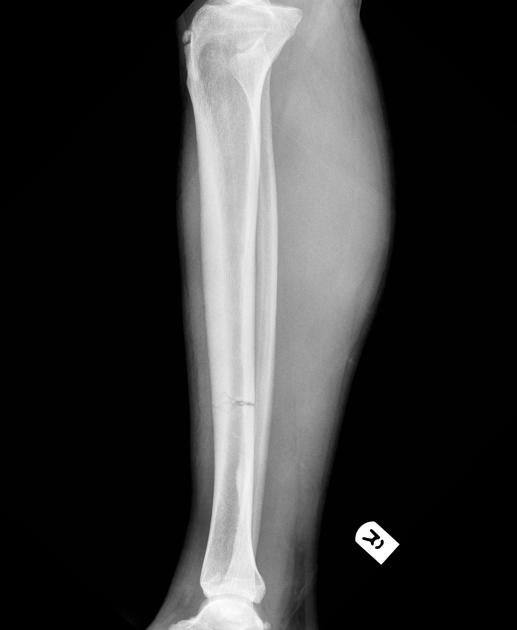fractured: (212, 388, 259, 416)
